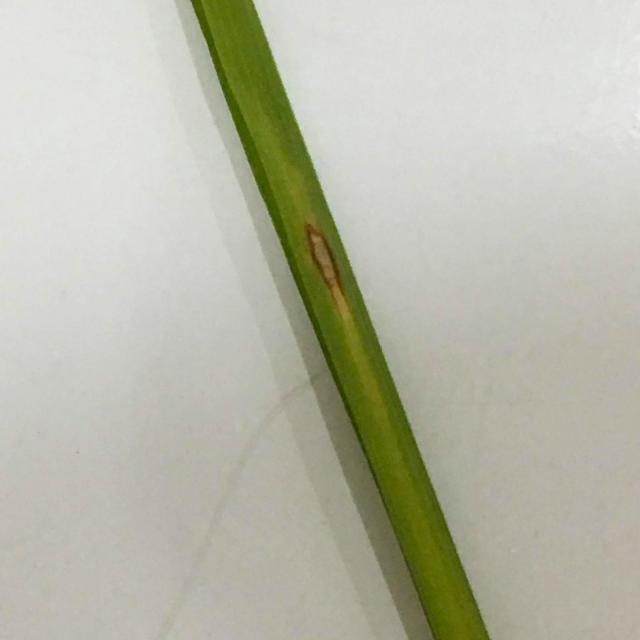Leaf_Blast: (293, 188, 393, 352)
